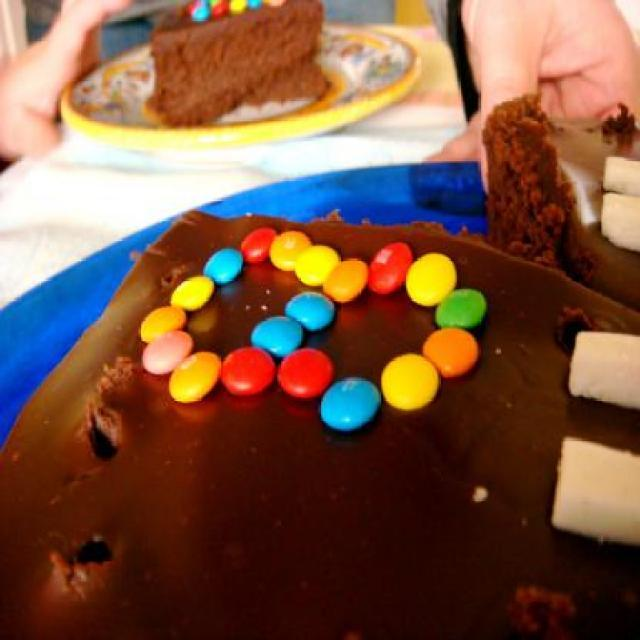Candy: (138, 219, 488, 430), (443, 288, 494, 344), (188, 0, 286, 22)
